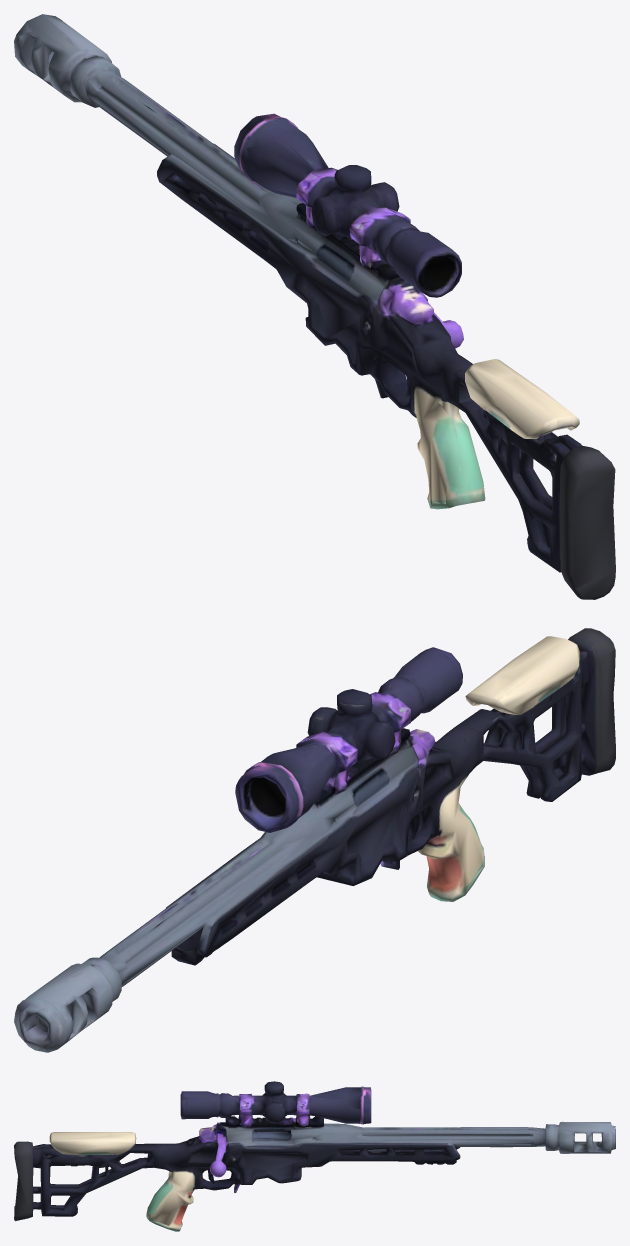
Rendered from r_tempest.glb.
3 views of the same model, one above another, from view 1: azimuth 30°, elevation 25°; view 2: azimuth 150°, elevation 25°; view 3: azimuth 270°, elevation 25° (orthographic). The views are drawn at different scales.
Visible parts, largest first — view 1: node_0; view 2: node_0; view 3: node_0.
Part boxes in pixels (x1=…): node_0: x1=14, y1=14, x2=615, y2=599; node_0: x1=14, y1=628, x2=615, y2=1052; node_0: x1=14, y1=1081, x2=615, y2=1231.
Bounding box in the file's own units: 0.1283 × 0.3686 × 1.39.
Materials: 1 (1 with a texture image).
